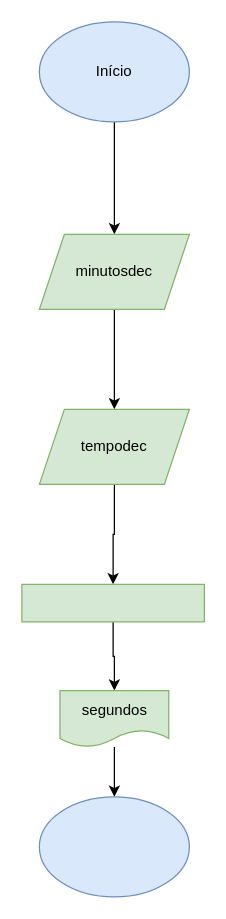
Image size: 226x919. Some labels were removed from this diagram. The centre of each missing label's shape, as x and y in pixels:
Fim: the point at 113,846
segundo = (tempodec*60): the point at 112,602
